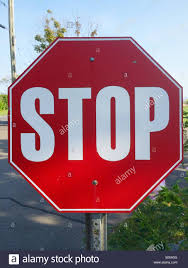Stop: (10, 19, 183, 207)
